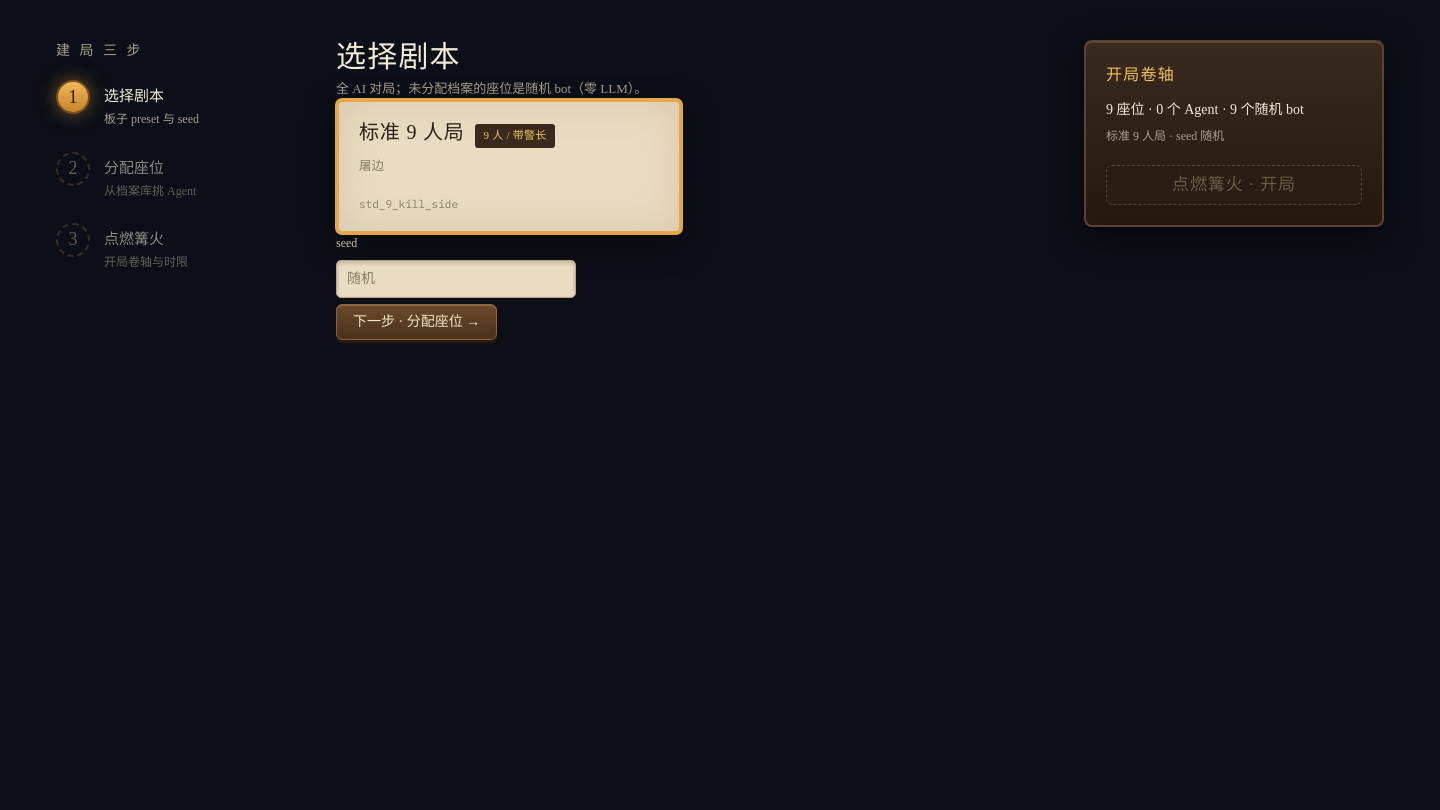
Test case: Lobby 我自己入座（issue #115） › start 失败：不跳转，保留可删除的失败对局
Expected: the heading "标准 9 人局" is shown, [359,120,465,144]
Click the button "下一步 · 分配座位 →".
click(417, 322)  # box [336,304,497,340]
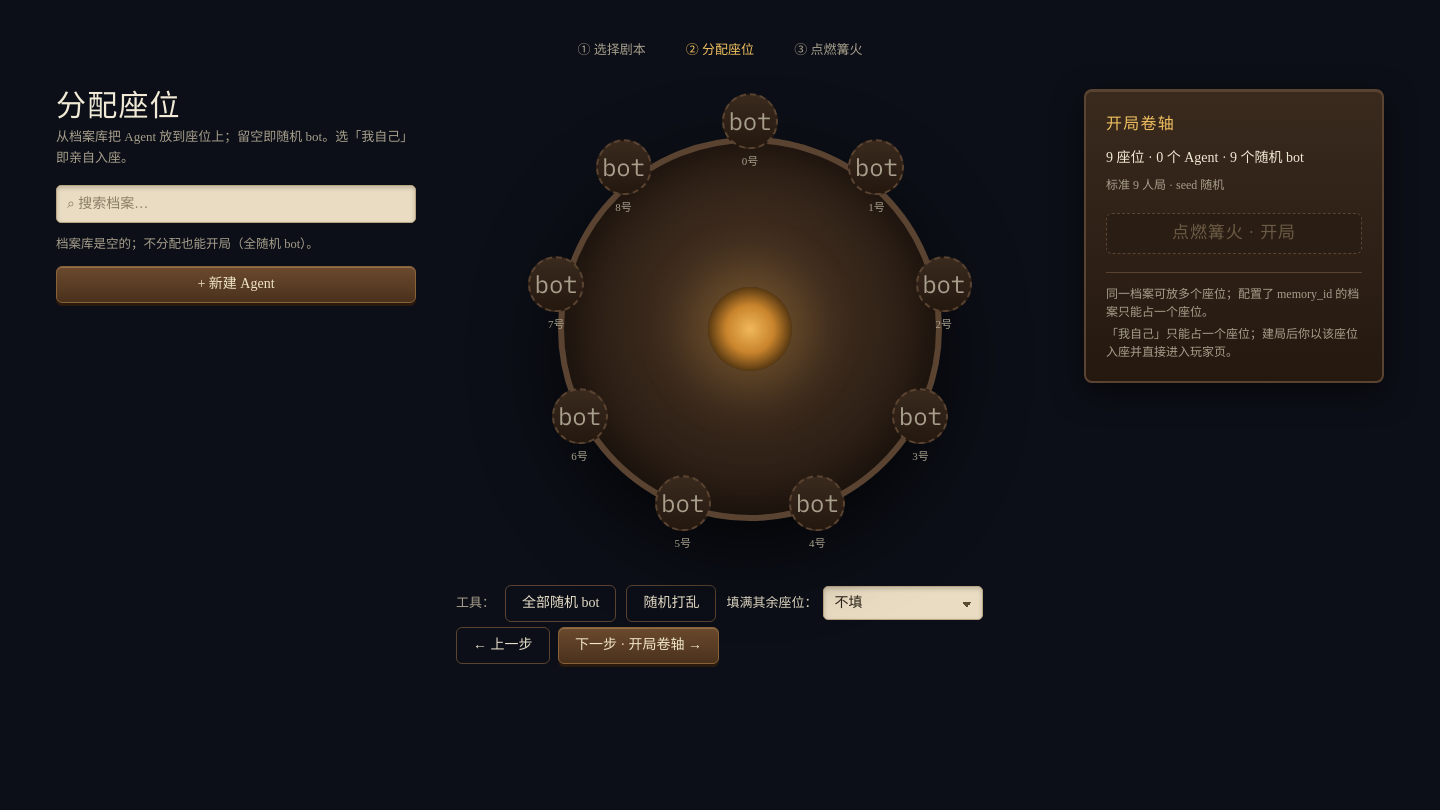
Click the button with aria-label "入座 3号".
click(920, 427)  # box [884,388,956,466]
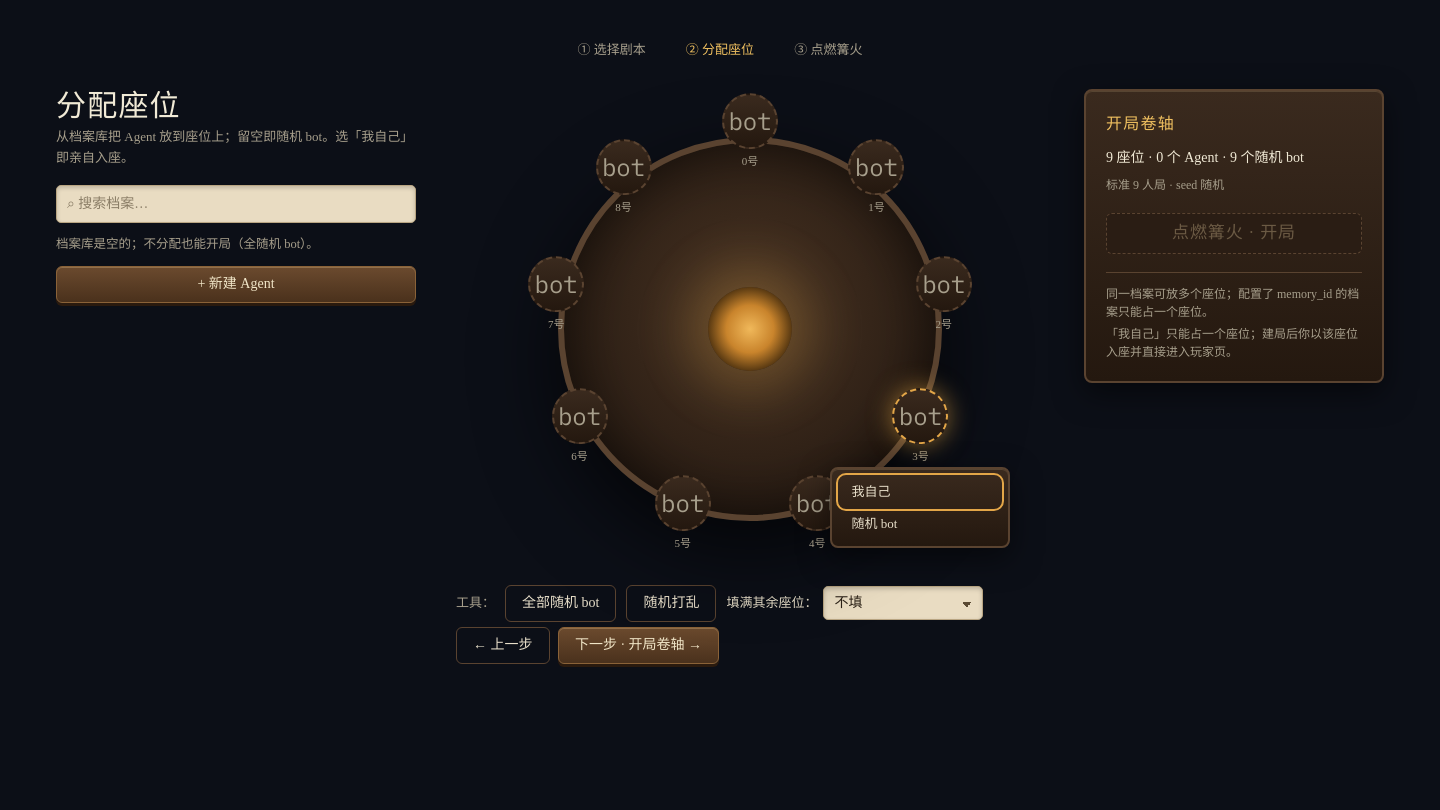
Click the menu item "我自己".
click(920, 492)  # box [840,477,1000,507]
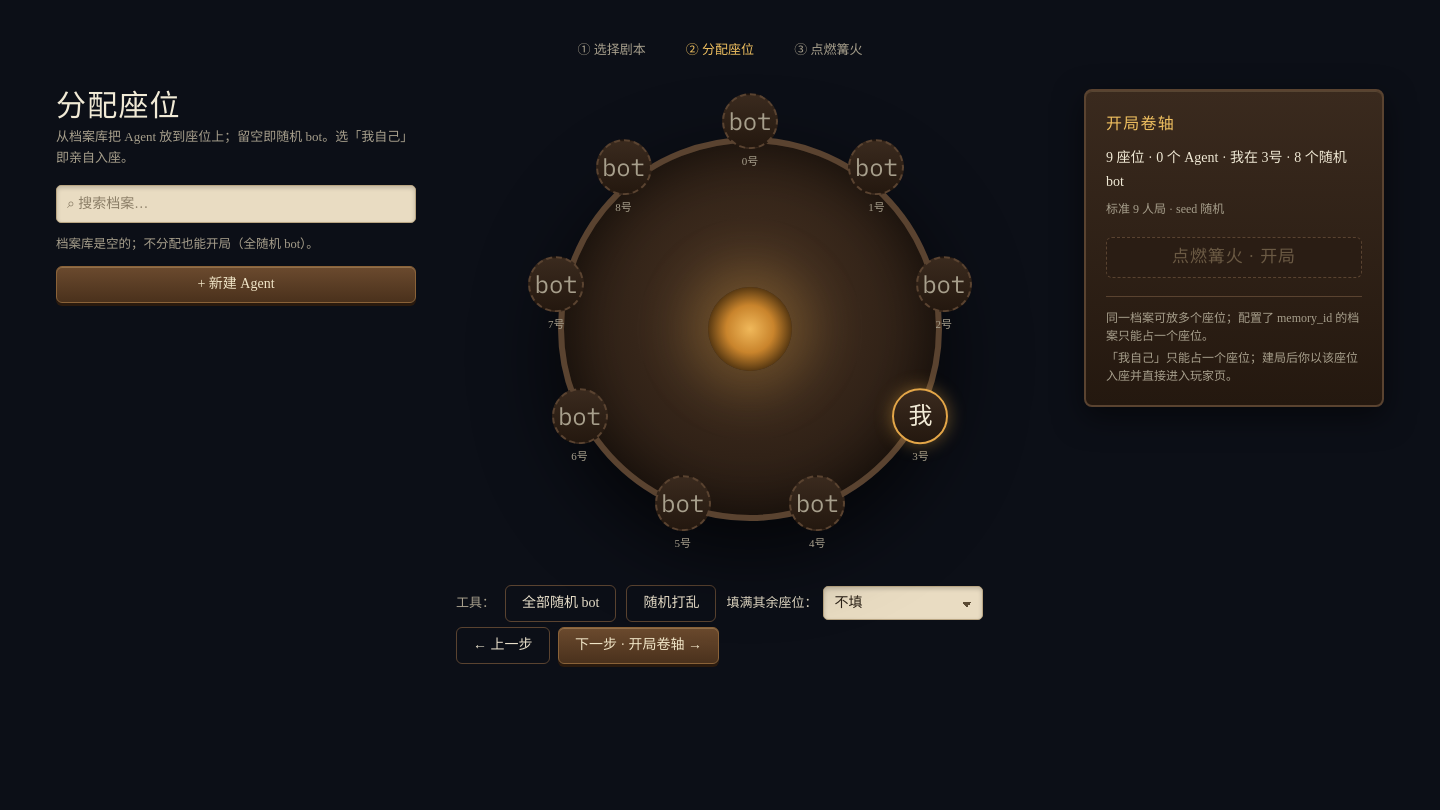
Click the button "下一步 · 开局卷轴 →".
click(638, 646)  # box [558,627,719,664]
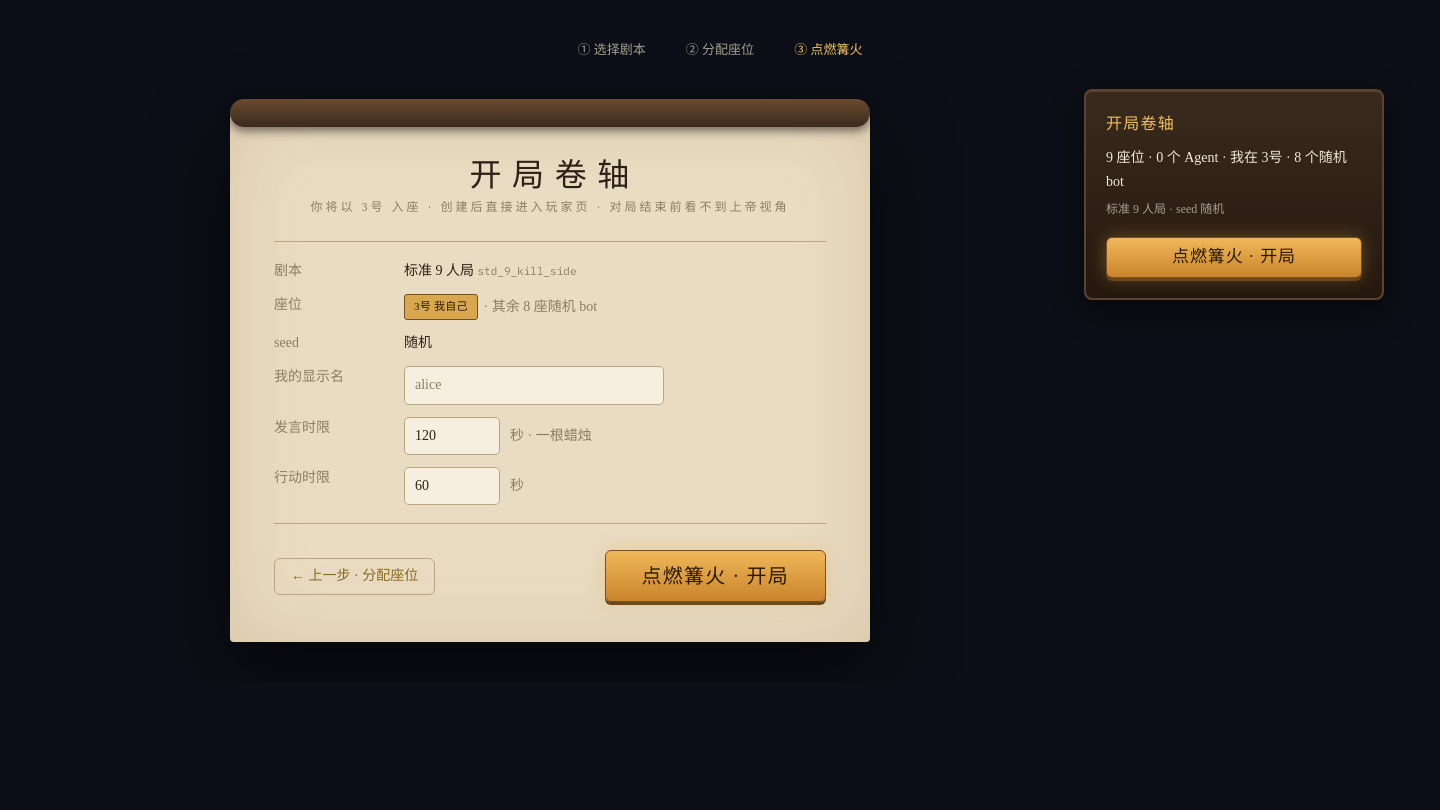
Click the button "点燃篝火 · 开局" below "秒 · 一根蜡烛".
click(715, 576)  # box [604,550,826,602]
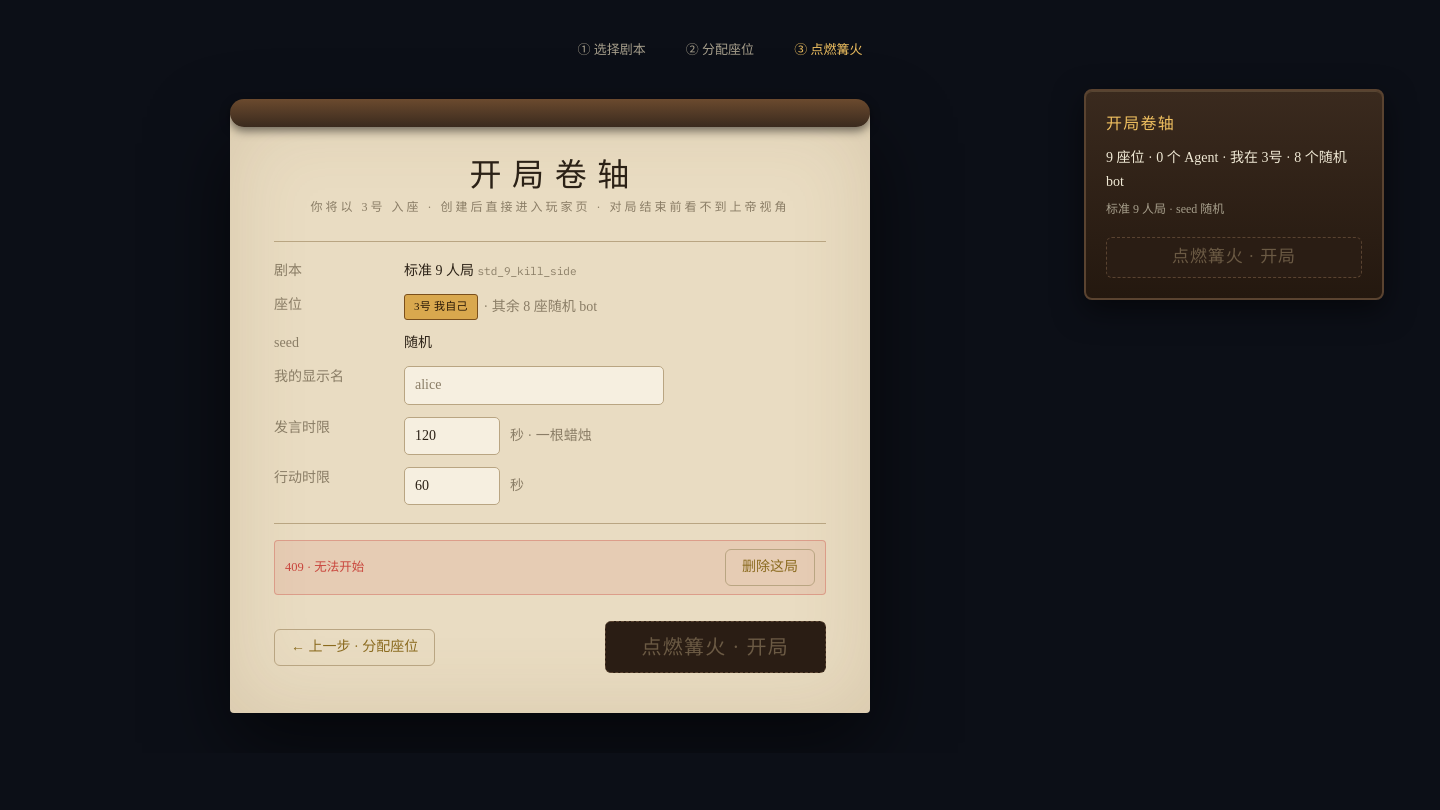
Now the text "409 · 无法开始" is shown, box [285,558,364,577]
Now the button "删除这局" is shown, box [725,549,815,586]
